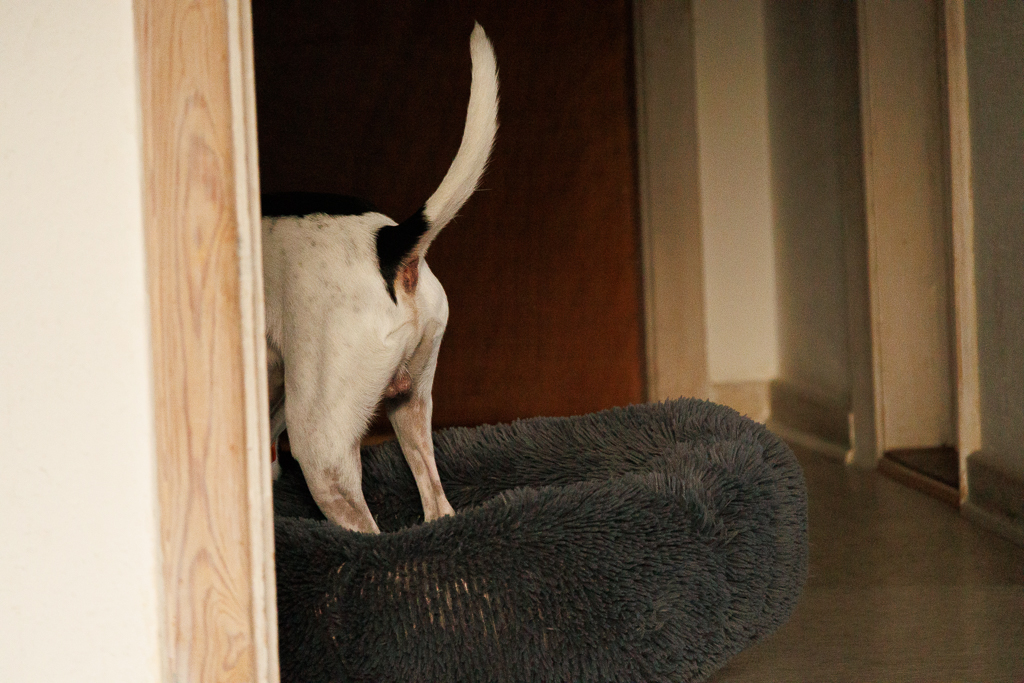Dog: (238, 16, 508, 543)
